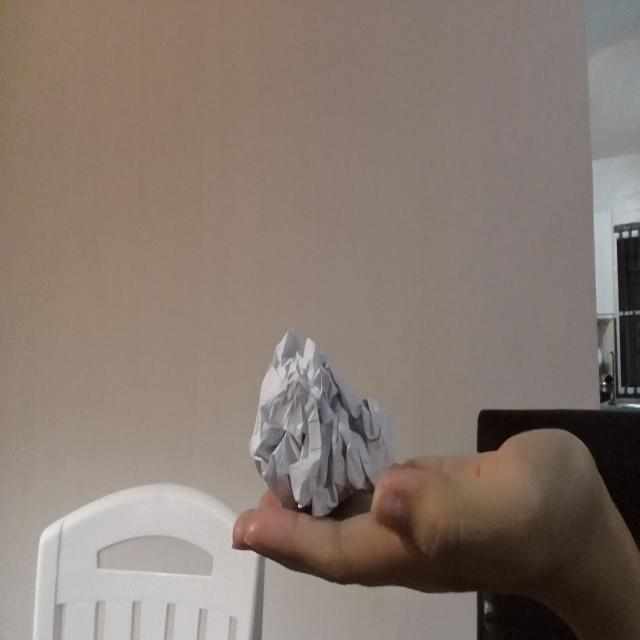crumpled_paper: (246, 324, 401, 528)
